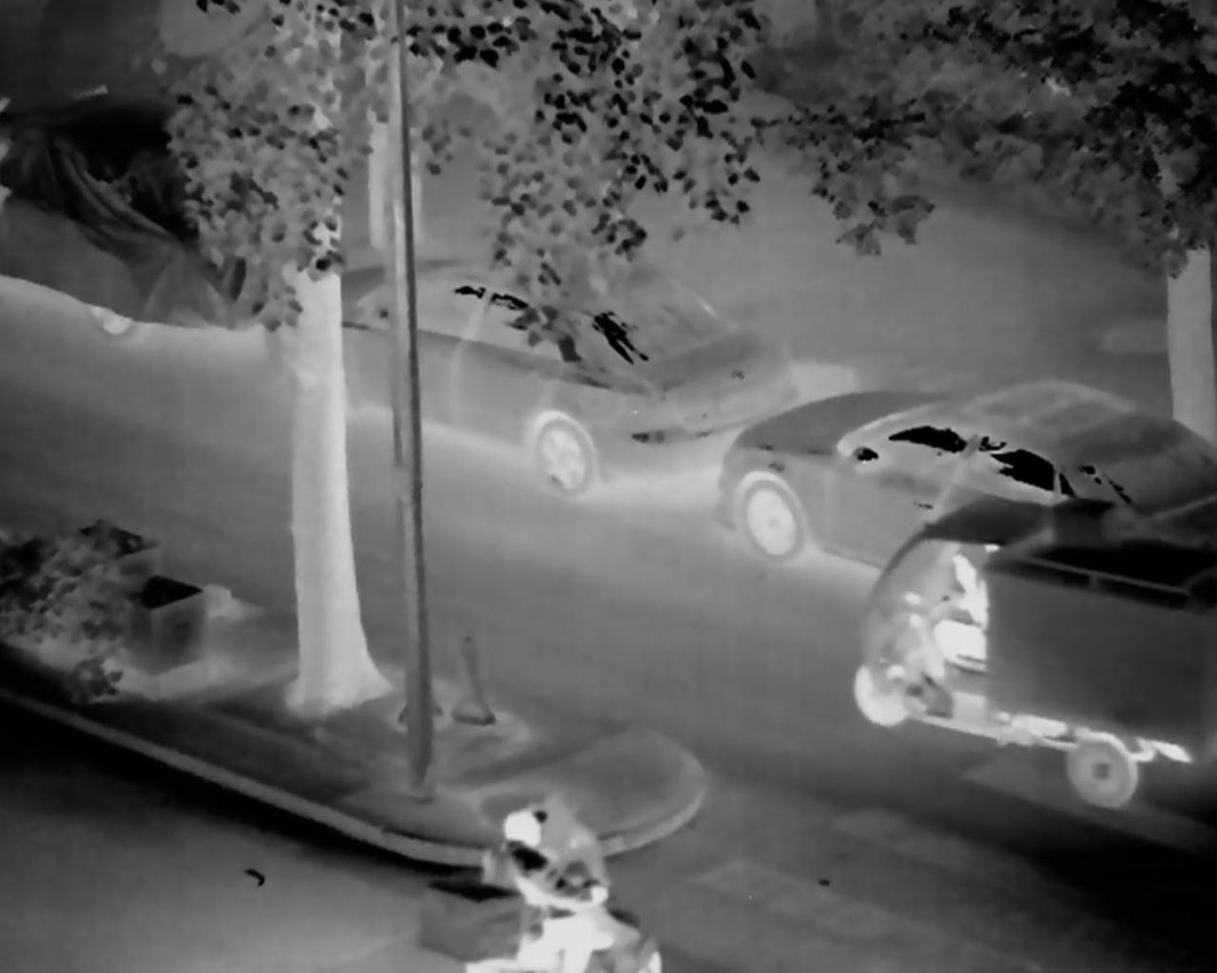person: (474, 807, 604, 973)
